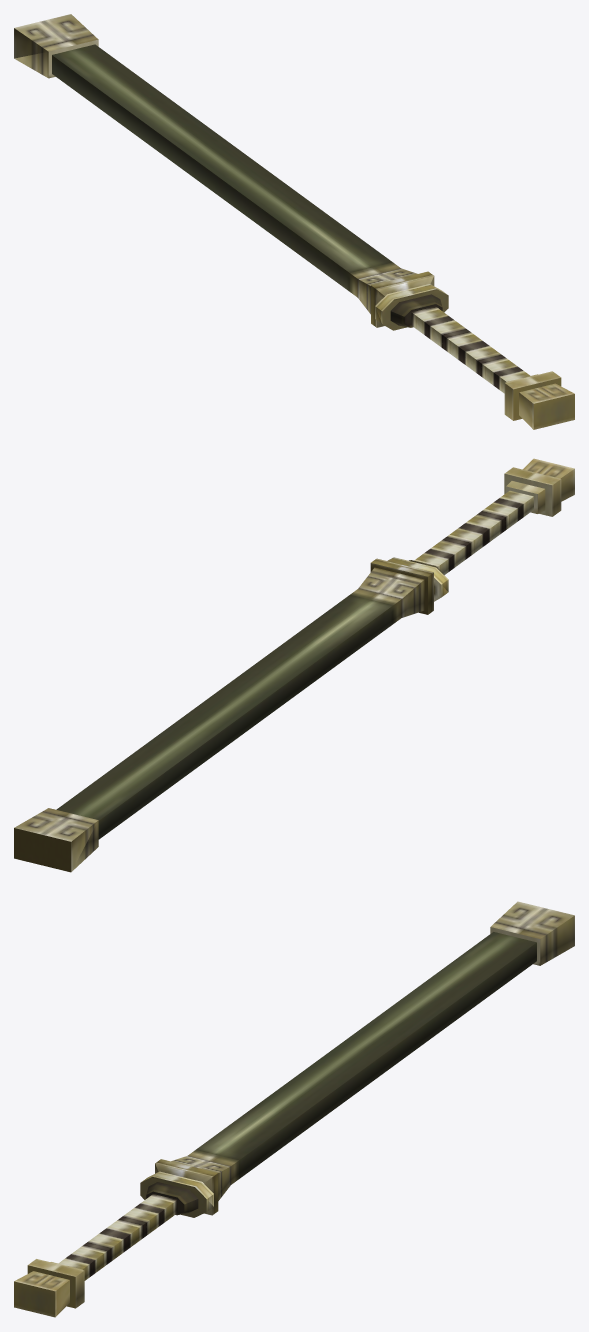
The picture shows the model from 3 angles, top to bottom: view 1: azimuth 30°, elevation 25°; view 2: azimuth 150°, elevation 25°; view 3: azimuth 330°, elevation 25°; orthographic projection.
Parts seen in each view (by area): view 1: w9_0b; view 2: w9_0b; view 3: w9_0b.
Part boxes in pixels (<box>): w9_0b: <box>14,14,574,429</box>; w9_0b: <box>14,458,574,872</box>; w9_0b: <box>14,901,574,1317</box>.
Size of the model in its own units: 2.26 by 1.24 by 30.19.
1 material, 1 textured.
